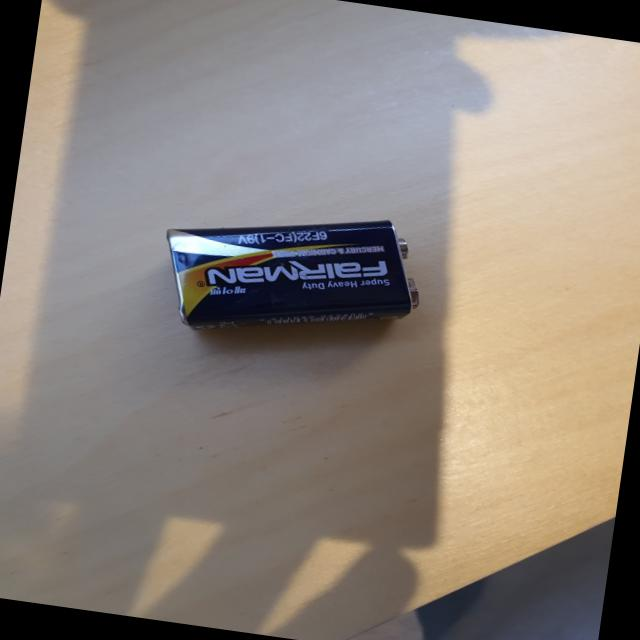battery-etc-etc: (137, 165, 454, 374)
